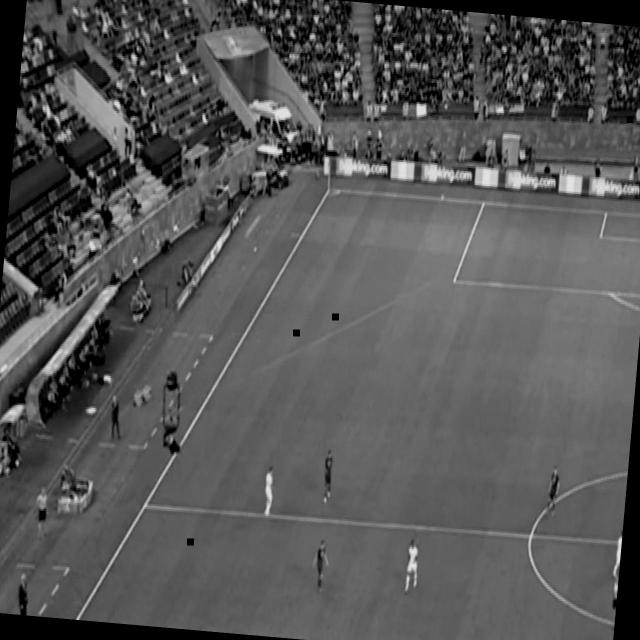player-white: (307, 536, 333, 596), (400, 536, 424, 596), (31, 480, 53, 542), (259, 462, 279, 524), (544, 462, 562, 522), (318, 445, 336, 503), (605, 572, 619, 634), (609, 526, 623, 580), (616, 521, 624, 567)
